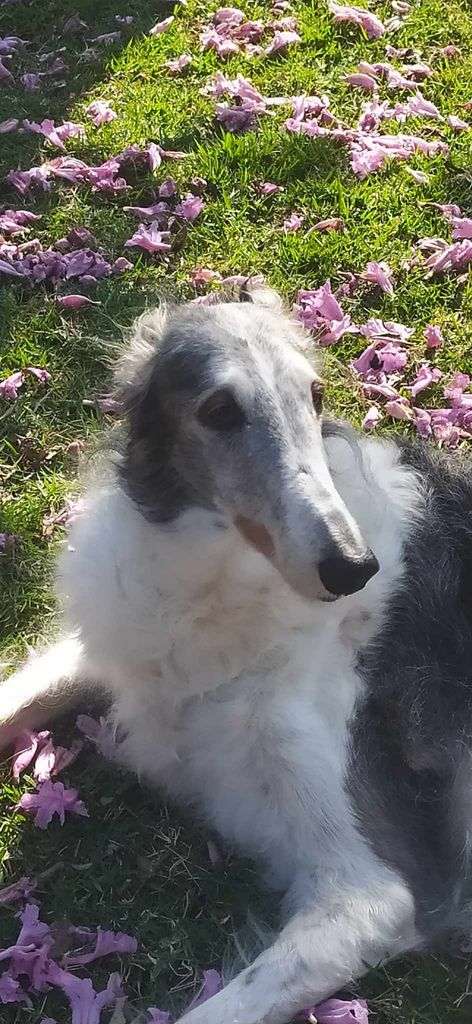borzoi: (55, 279, 463, 984)
